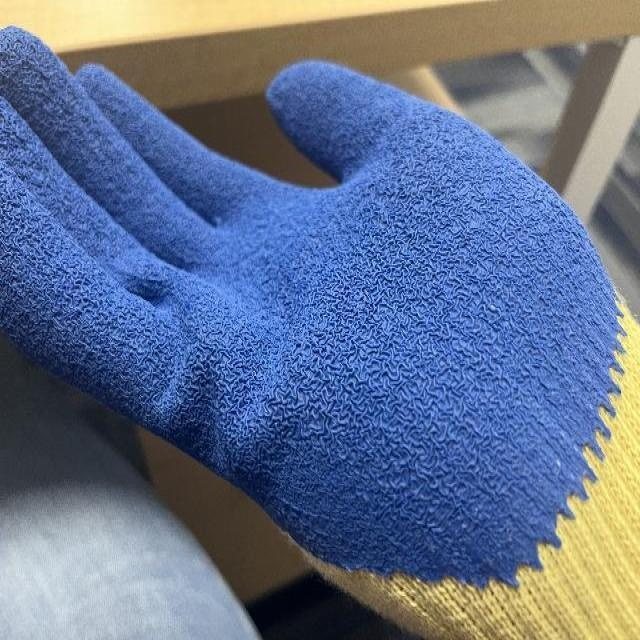Guantes: (0, 24, 632, 595)
